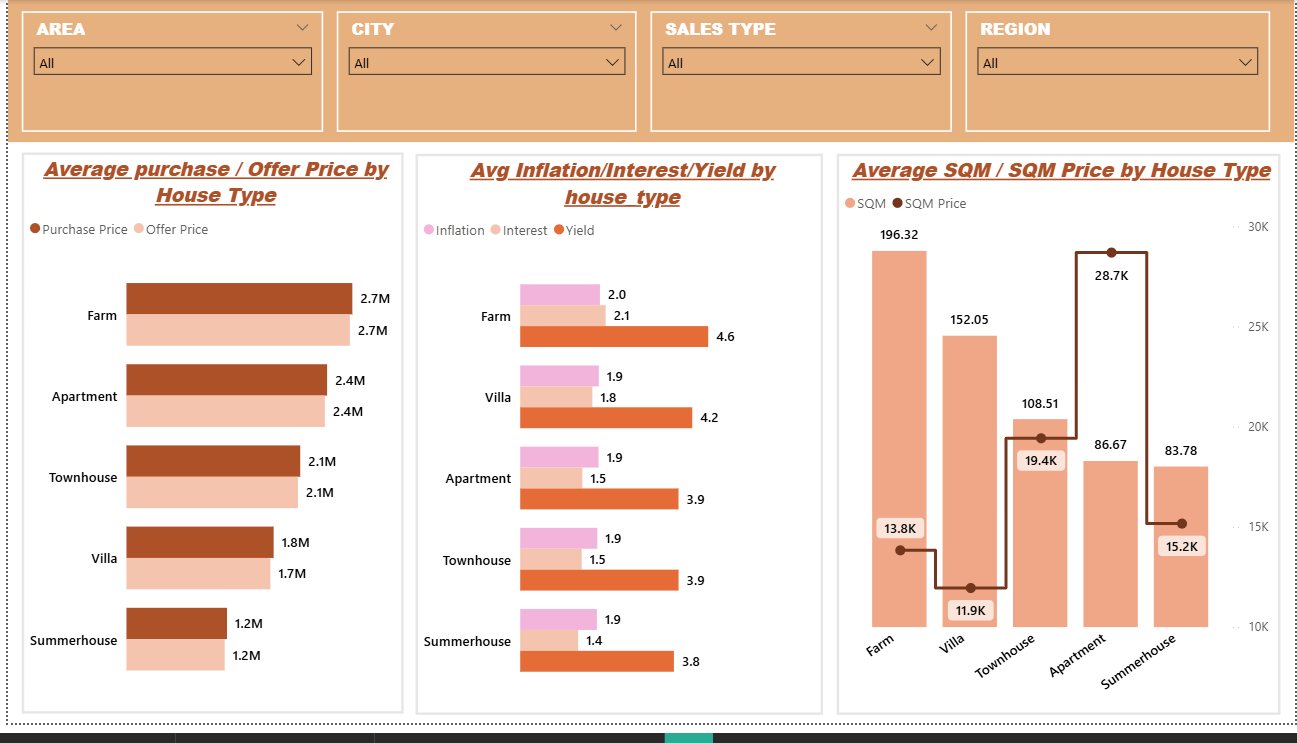

The page's visual inventory and layout, read from the dashboard file:
{"tool":"powerbi","page":{"name":"Page 1","canvas":[1280,720],"ordinal":2},"visuals":[{"type":"shape","box":[0,0,1280,141.4],"z":0},{"type":"slicer","fields":{"Values":["Housing.sales_type"]},"box":[640,11.4,300,120],"z":1000},{"type":"slicer","fields":{"Values":["Housing.area"]},"box":[14.3,11.4,300,120],"z":2000},{"type":"slicer","fields":{"Values":["Housing.region"]},"box":[952.9,11.4,302.9,120],"z":3000},{"type":"slicer","fields":{"Values":["Housing.city"]},"box":[327.1,11.4,298.6,120],"z":4000},{"type":"clusteredBarChart","title":"Average purchase / Offer Price by House Type","fields":{"Category":["Housing.house_type"],"Y":["Avg(Housing.purchase_price)","Avg(Housing.Offer Price)"]},"box":[14.3,151.4,380,558.6],"z":5000},{"type":"clusteredBarChart","title":"Avg Inflation/Interest/Yield by house_type","fields":{"Category":["Housing.house_type"],"Y":["Avg(Housing.dk_ann_infl_rate%)","Avg(Housing.nom_interest_rate%)","Avg(Housing.yield_on_mortgage_credit_bonds%)"]},"box":[405.7,152.9,405.7,558.6],"z":6000},{"type":"lineStackedColumnComboChart","title":"Average SQM / SQM Price by House Type","fields":{"Y2":["Avg(Housing.sqm_price)"],"Y":["Avg(Housing.sqm)"],"Category":["Housing.house_type"]},"box":[824.3,152.9,441.4,558.6],"z":7000}]}

Visuals, with their boxes in screenshot pixels (x1, y1, x2, y2), scaled from the page's 1280x720 canvas onto the 1297x743 screenshot:
shape: <region>0, 0, 1296, 146</region>
slicer - Housing.sales_type: <region>648, 12, 952, 136</region>
slicer - Housing.area: <region>14, 12, 318, 136</region>
slicer - Housing.region: <region>966, 12, 1272, 136</region>
slicer - Housing.city: <region>331, 12, 634, 136</region>
"Average purchase / Offer Price by House Type" clusteredBarChart: <region>14, 156, 400, 733</region>
"Avg Inflation/Interest/Yield by house_type" clusteredBarChart: <region>411, 158, 822, 734</region>
"Average SQM / SQM Price by House Type" lineStackedColumnComboChart: <region>835, 158, 1283, 734</region>
